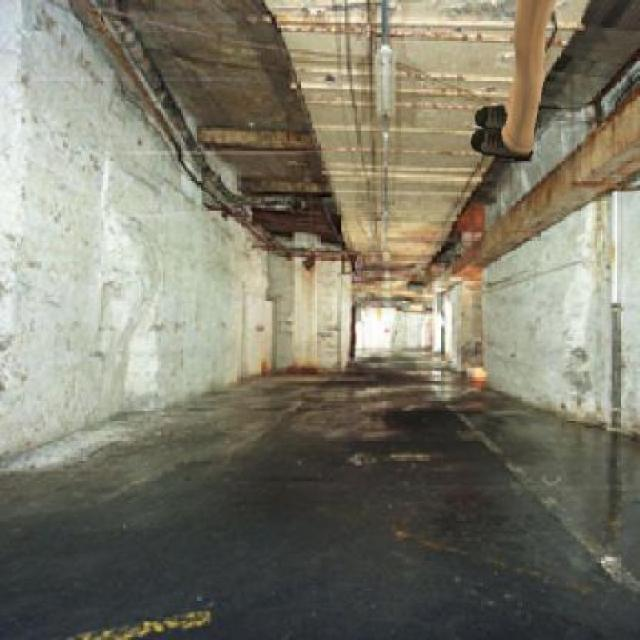Person: (468, 1, 560, 162)
